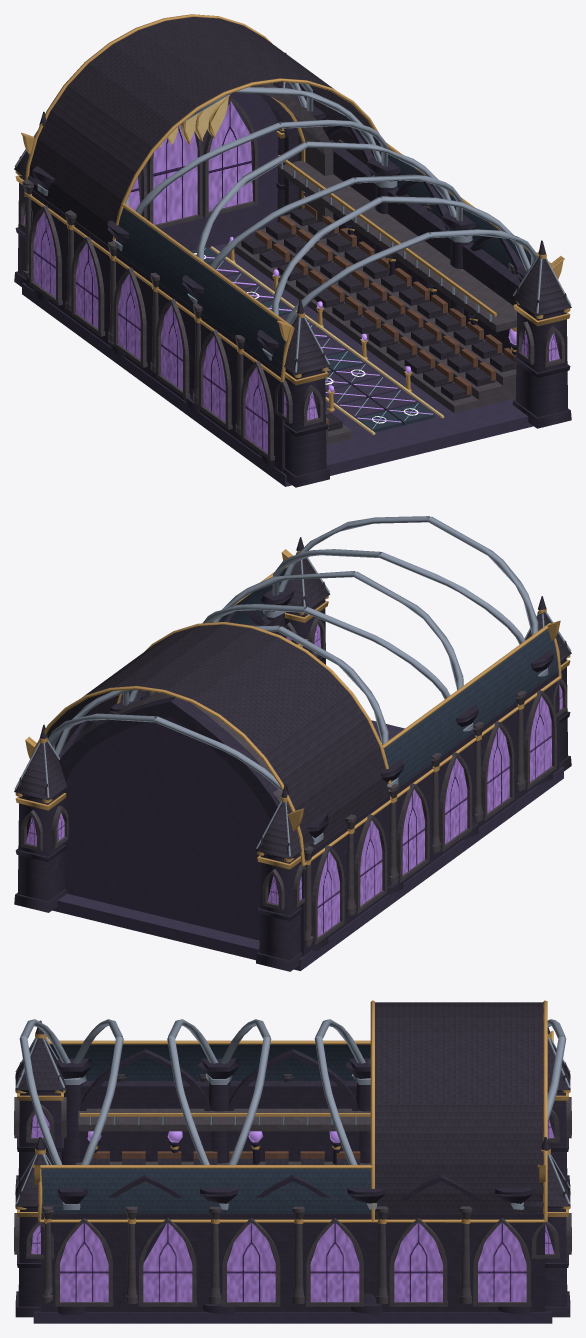
File: dramatorium-far.glb
3 renders of one model, top to bottom at view 1: azimuth 30°, elevation 25°; view 2: azimuth 150°, elevation 25°; view 3: azimuth 270°, elevation 25°, orthographic.
Bounding box in the file's own units: 15.82 × 12.84 × 26.96.
14 materials, 14 textured.
